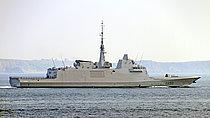MIL_Ship: (7, 45, 200, 89)
